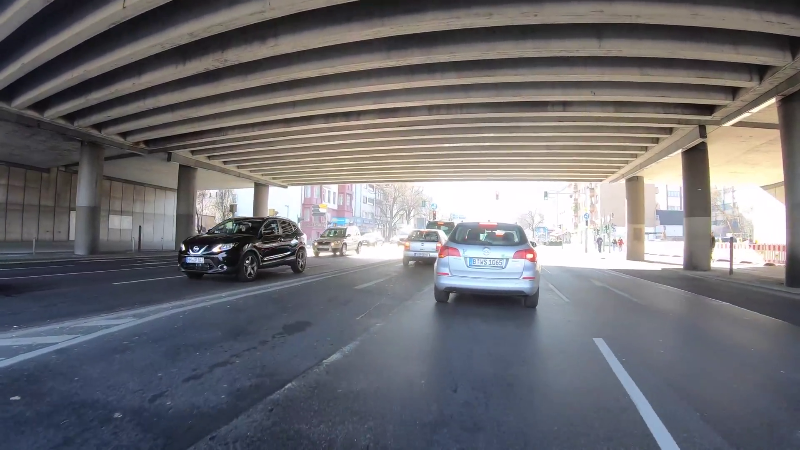Plate: (467, 257, 504, 268), (185, 254, 205, 263)
